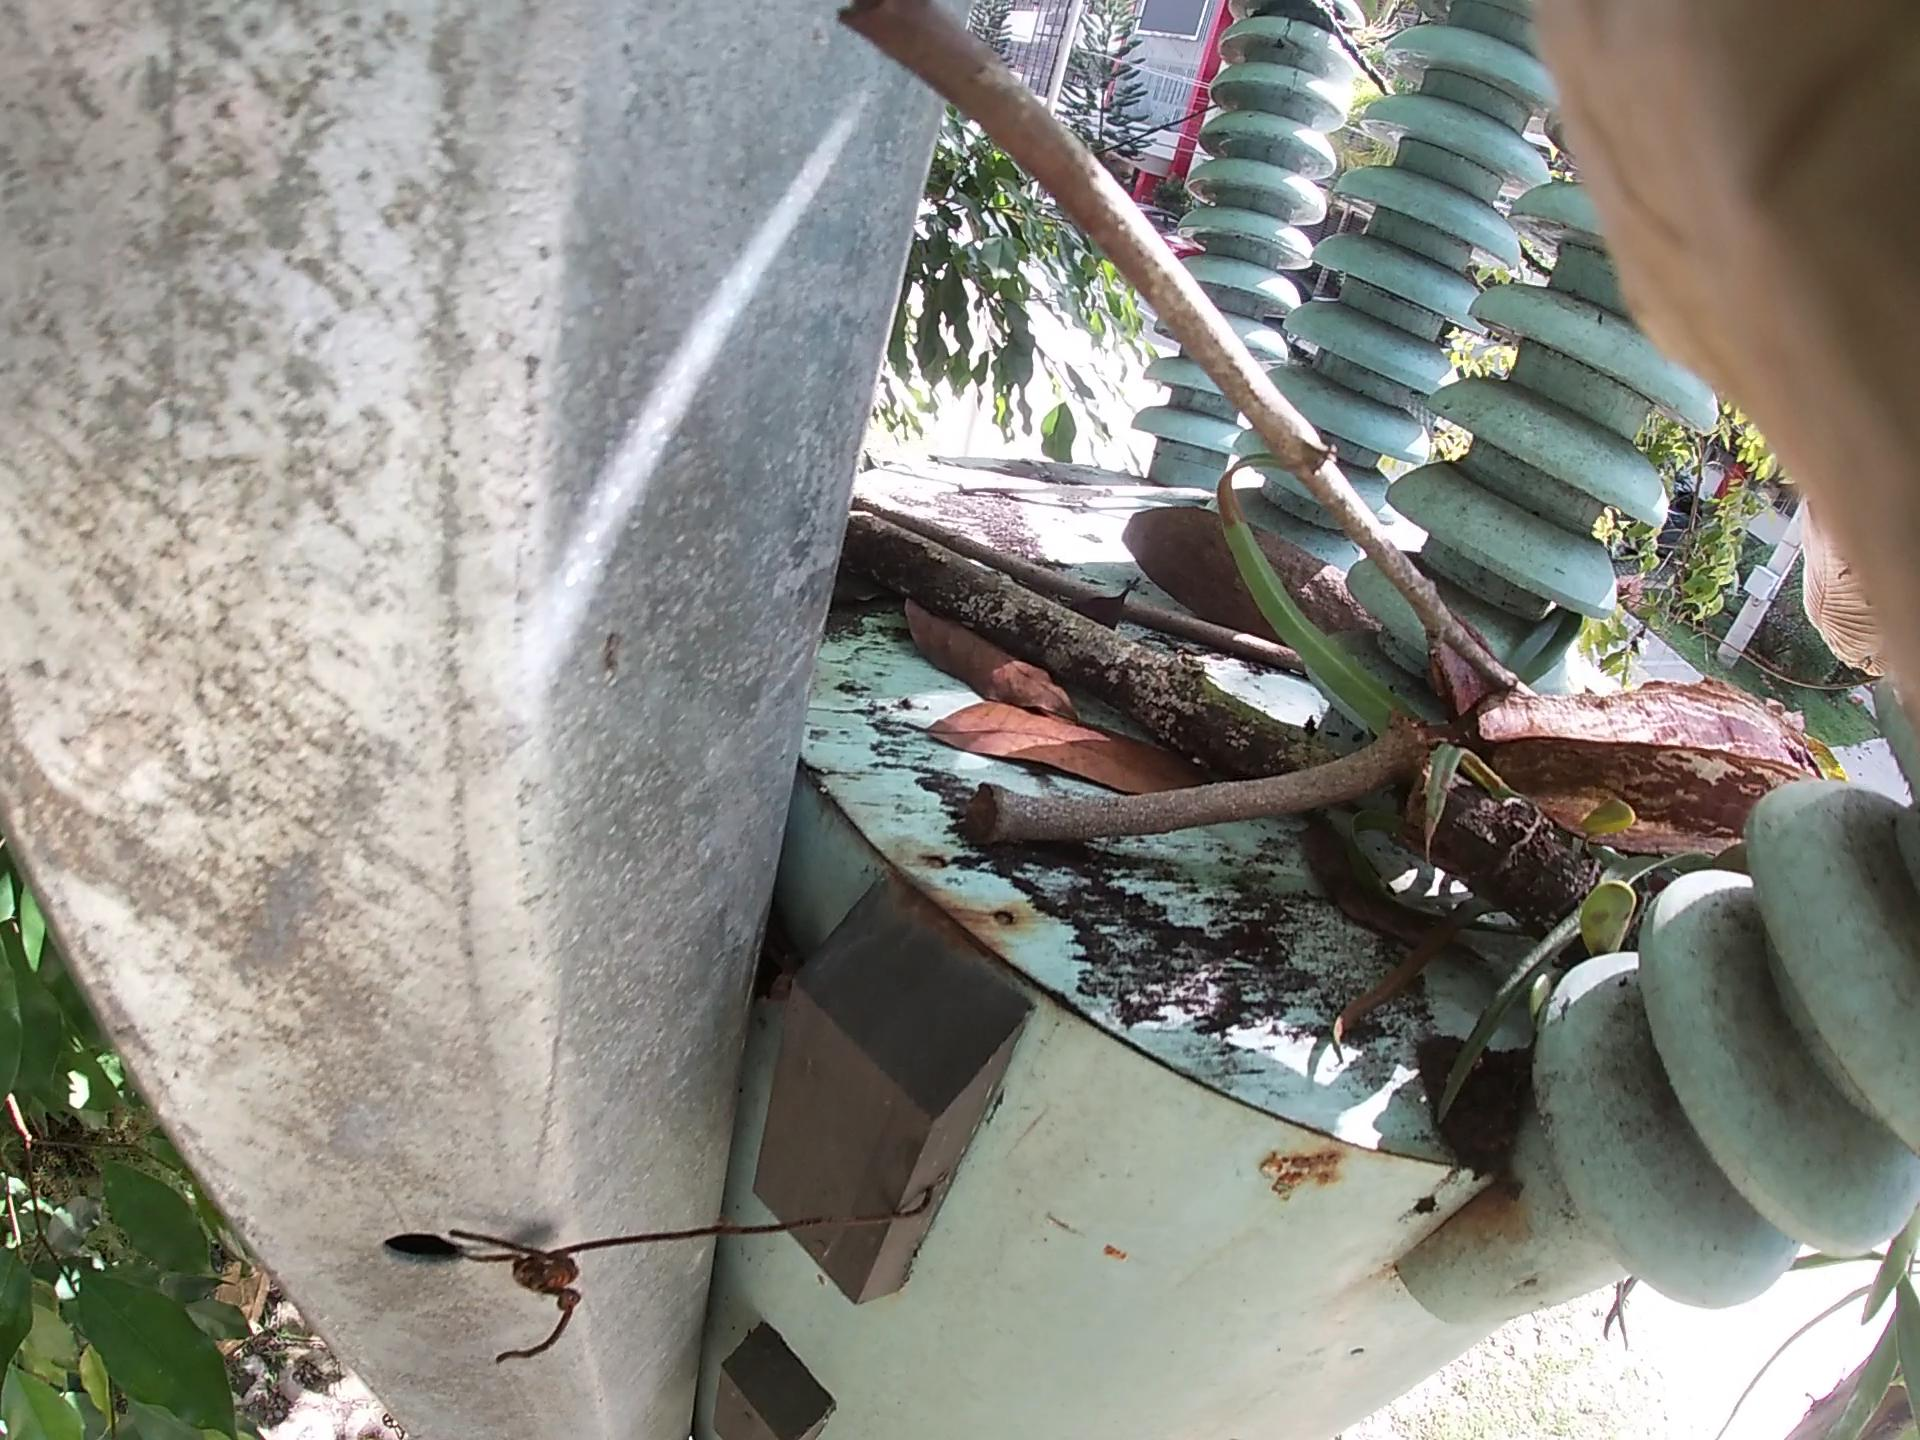branch with leaves: (821, 520, 1583, 929)
leaf: (919, 584, 1138, 821)
mahogany fruit: (1017, 410, 1451, 656), (1454, 656, 1828, 870)
tree branch: (939, 62, 1548, 711), (925, 740, 1534, 1051), (893, 483, 1240, 631)
